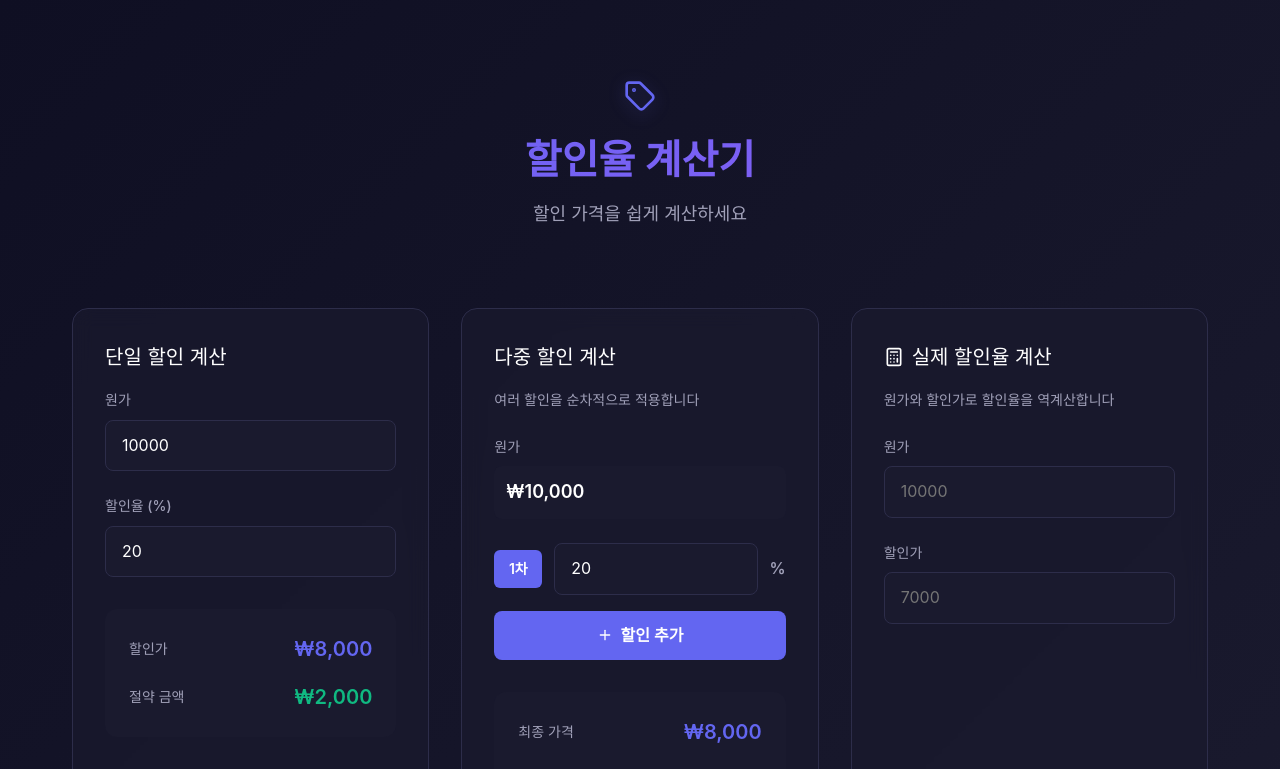
Scenario: DiscountCalculator 컴포넌트 › 다중 할인 계산 › 할인 추가 버튼 클릭시 새 할인 입력 필드가 추가된다
Expected: the text "1차" is shown once, top-left (494, 550), bottom-right (542, 588)
Click the button "할인 추가": click(640, 635) top-left (494, 611), bottom-right (786, 660)
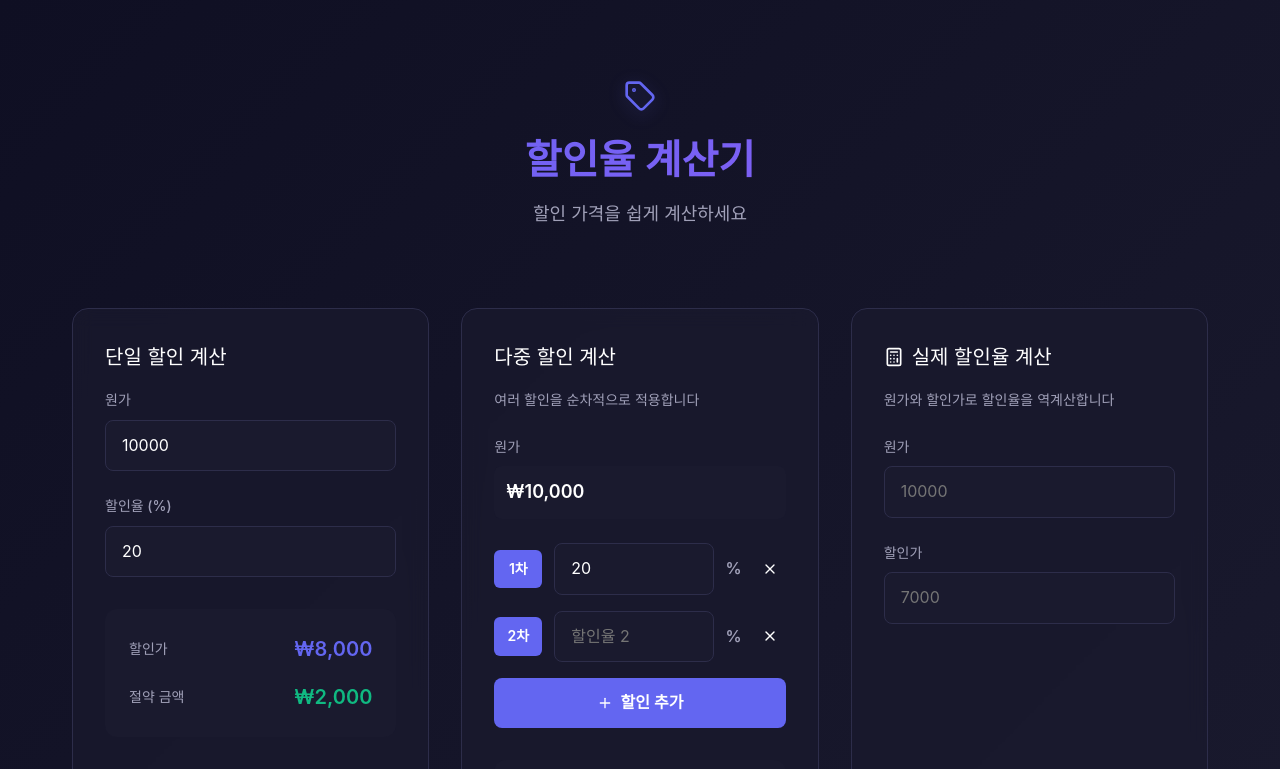
Result: the text "1차" is shown 2 times at top-left (494, 550), bottom-right (542, 588); top-left (494, 617), bottom-right (542, 656)
